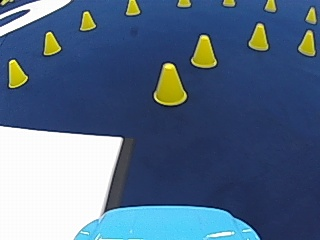cone: (152, 61, 187, 105), (189, 33, 217, 68), (247, 21, 269, 50), (7, 58, 27, 87), (297, 29, 316, 55), (42, 30, 60, 55), (79, 9, 96, 30), (125, 0, 140, 15), (304, 6, 316, 24), (263, 0, 276, 12), (177, 0, 190, 7)
